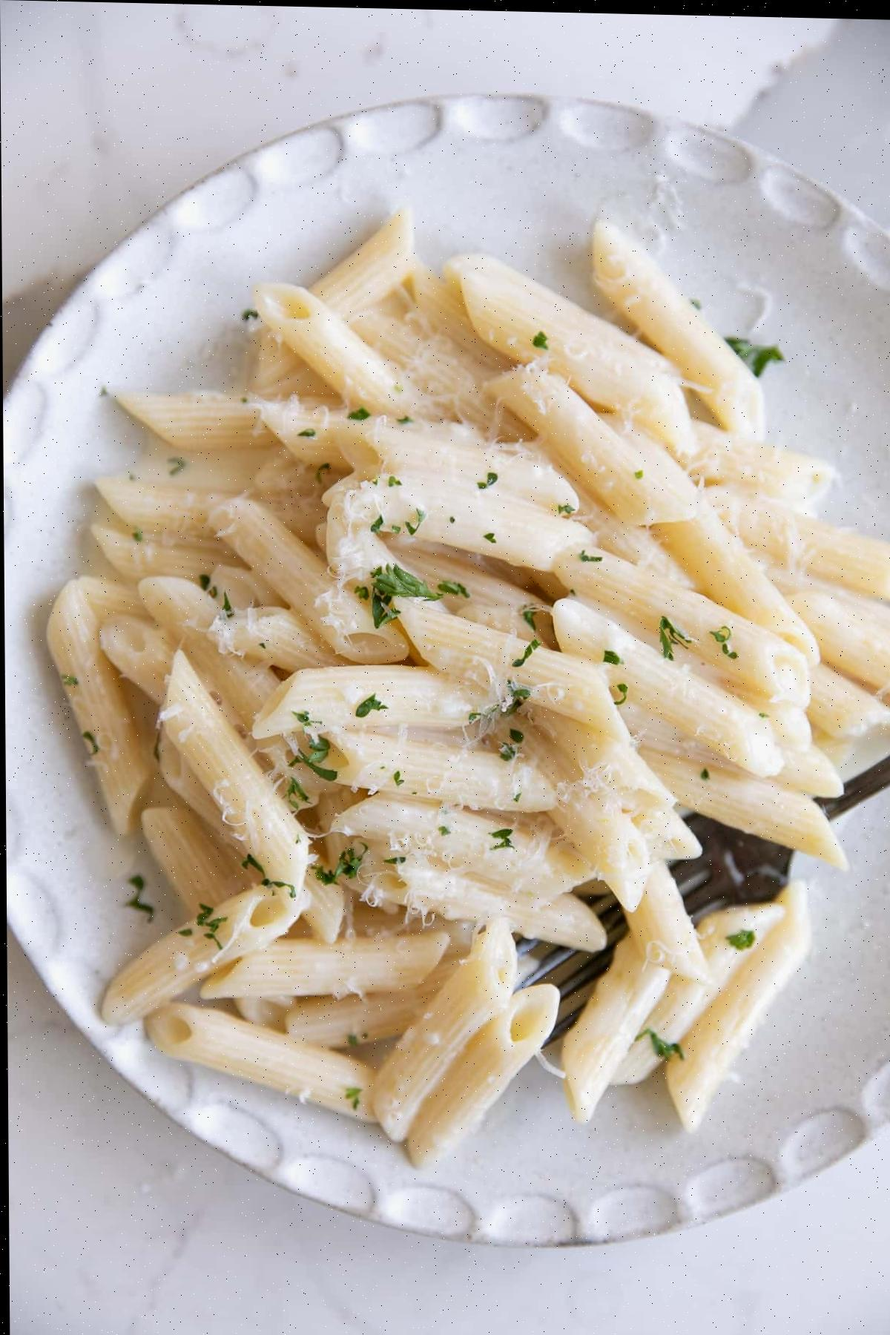pasta: (48, 210, 889, 1165), (446, 257, 691, 451), (553, 598, 782, 776), (555, 549, 810, 707), (161, 650, 309, 912), (593, 221, 763, 438), (668, 883, 810, 1131), (491, 366, 697, 524), (211, 498, 407, 662), (374, 920, 516, 1140), (398, 600, 624, 736), (407, 985, 558, 1166), (102, 886, 299, 1024), (332, 792, 590, 896), (147, 1004, 375, 1121), (47, 581, 152, 834), (658, 500, 818, 665), (646, 748, 846, 868), (707, 486, 889, 599), (561, 935, 669, 1121), (647, 903, 783, 1045), (253, 665, 481, 739), (201, 933, 447, 998), (284, 957, 459, 1047), (681, 422, 834, 504), (141, 808, 249, 915), (788, 589, 889, 701), (115, 391, 274, 454), (628, 863, 708, 983), (91, 524, 234, 581), (99, 616, 176, 705), (807, 664, 889, 737), (79, 576, 145, 624)
